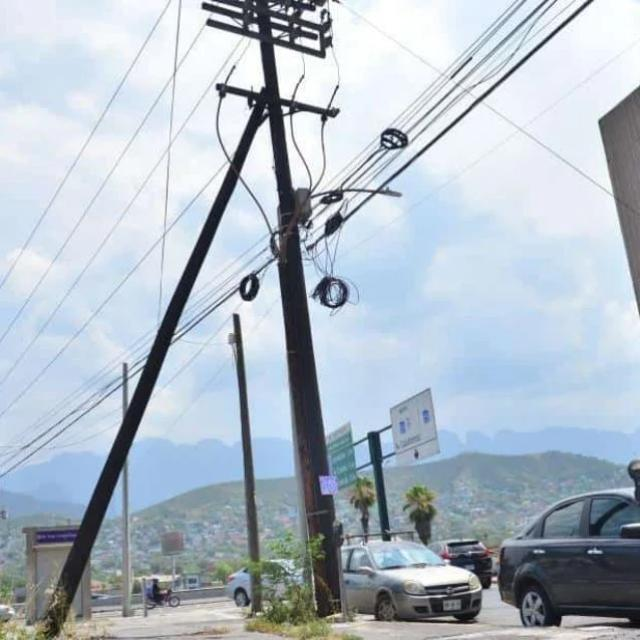Inclined Pole: (33, 64, 349, 636)
